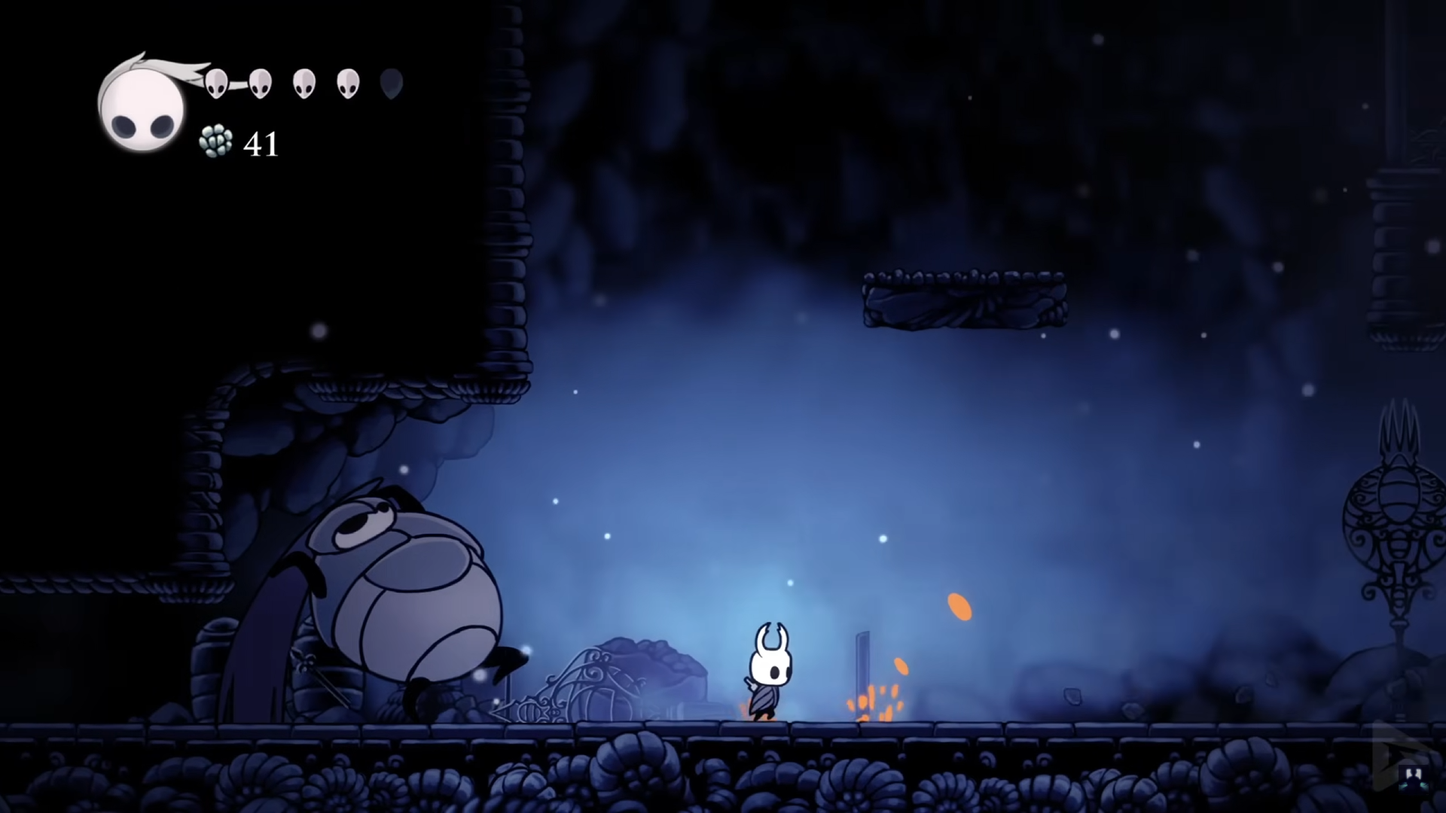HK: (738, 619, 801, 722)
